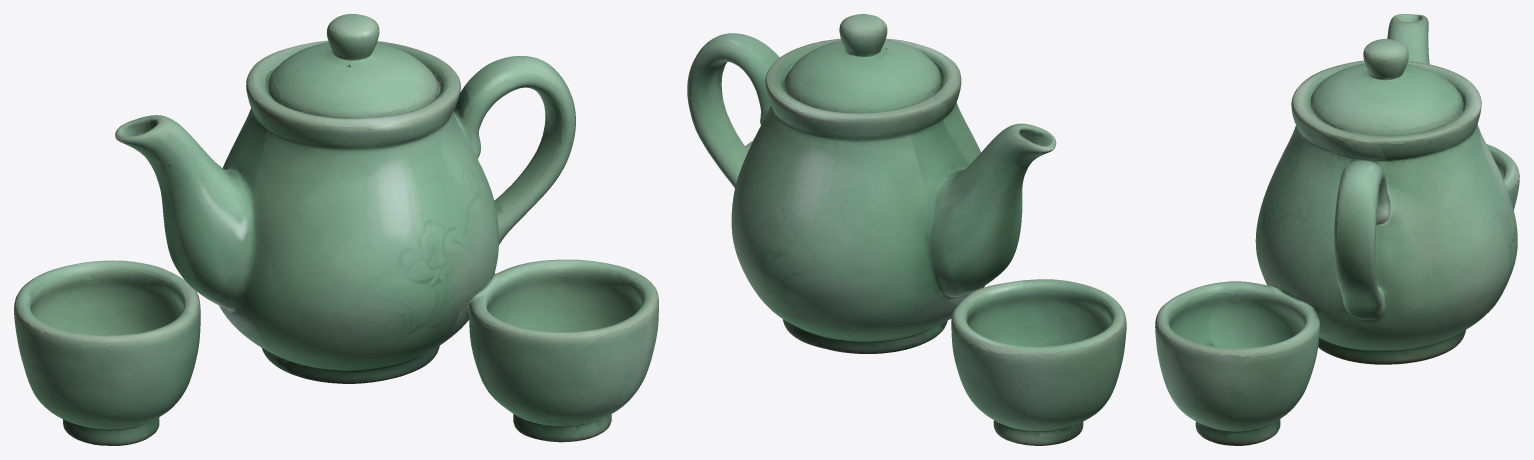
File: teapot-fixed.glb
The picture shows the model from 3 angles, left to right: view 1: azimuth 30°, elevation 25°; view 2: azimuth 150°, elevation 25°; view 3: azimuth 270°, elevation 25°; orthographic projection. The views are drawn at different scales.
Parts seen in each view (by area): view 1: geometry_0; view 2: geometry_0; view 3: geometry_0.
Part boxes in pixels (box(x1,y1,x2,y2)): geometry_0: box(14, 14, 658, 445); geometry_0: box(687, 14, 1126, 445); geometry_0: box(1155, 14, 1519, 445).
Bounding box in the file's own units: 0.18 × 0.1261 × 0.1257.
Materials: 1 (1 with a texture image).
